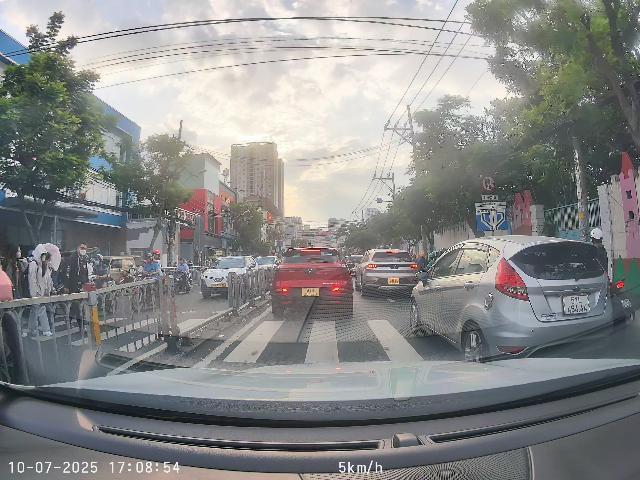124b-cam-oto-quay-dau-xe: (480, 174, 496, 192)
